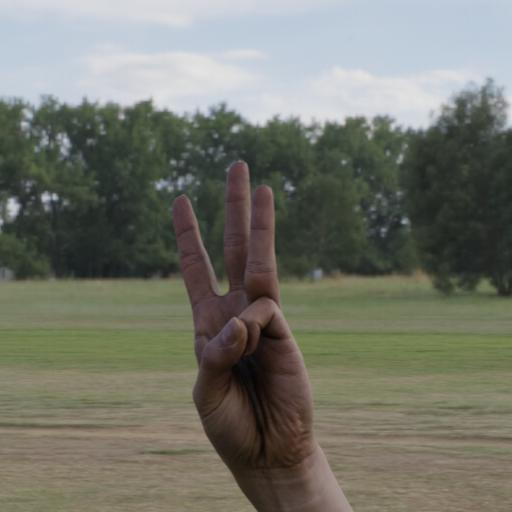W: (168, 154, 325, 474)
